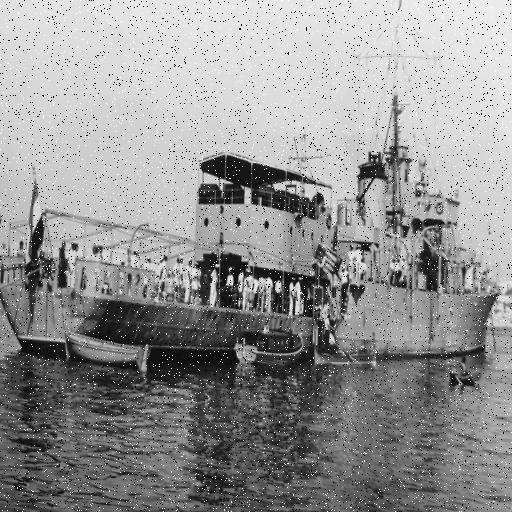Fragata: (3, 23, 505, 360)
